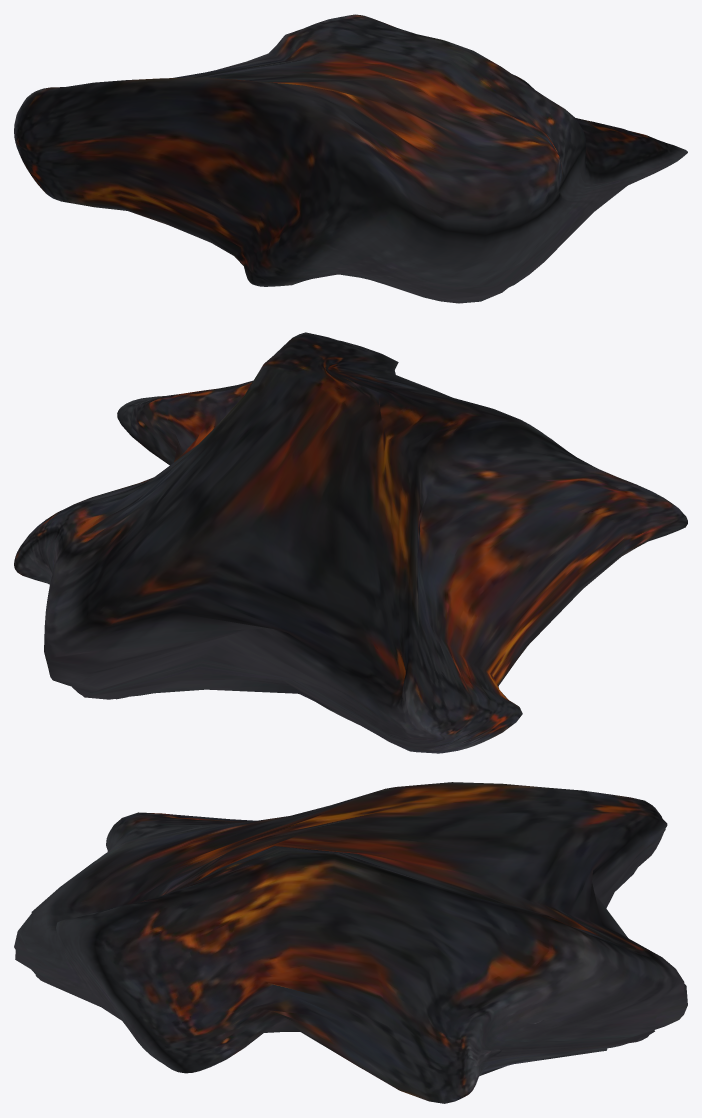
The model's file is rock-transformed.glb.
3 renders of one model, top to bottom at view 1: azimuth 30°, elevation 25°; view 2: azimuth 150°, elevation 25°; view 3: azimuth 270°, elevation 25°, orthographic. The views are drawn at different scales.
Visible parts, largest first — view 1: RockCube; view 2: RockCube; view 3: RockCube.
Part boxes in pixels (bbox=[...]): RockCube: bbox=[14, 14, 687, 303]; RockCube: bbox=[14, 332, 687, 753]; RockCube: bbox=[14, 782, 687, 1103].
Size of the model in its own units: 3.96 by 1.29 by 4.15.
1 material, 1 textured.
